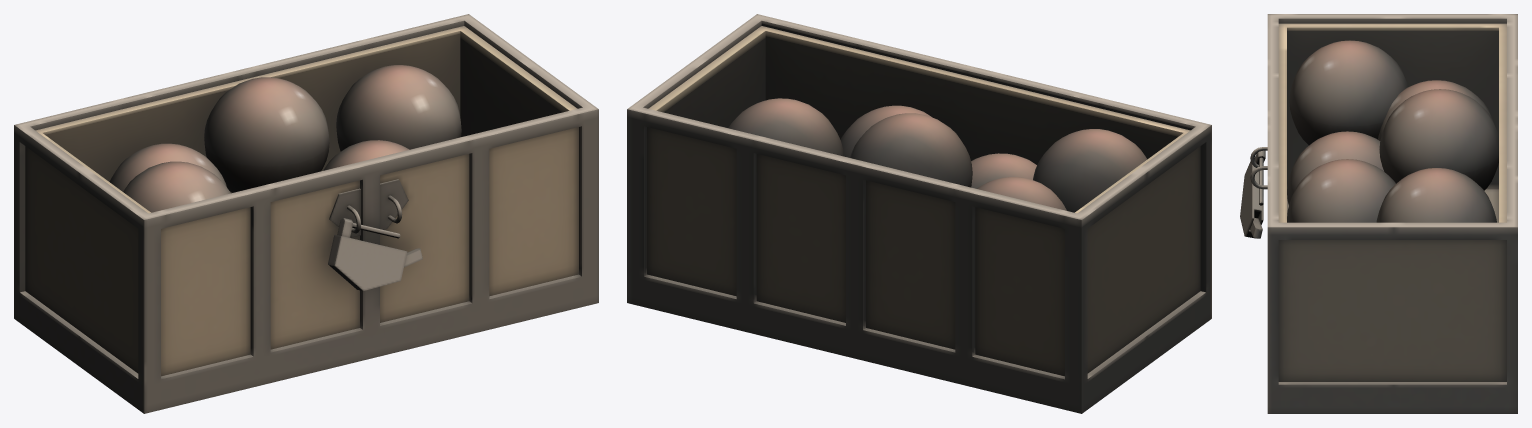
File: Storage_Cannon.fbx
The picture shows the model from 3 angles, left to right: view 1: azimuth 30°, elevation 25°; view 2: azimuth 150°, elevation 25°; view 3: azimuth 270°, elevation 25°; orthographic projection. The views are drawn at different scales.
Visible parts, largest first — view 1: chestbox_cen2_hako_hakoShape; view 2: chestbox_cen2_hako_hakoShape; view 3: chestbox_cen2_hako_hakoShape.
Part boxes in pixels (x1,y1,x2,y2): chestbox_cen2_hako_hakoShape: [14, 14, 598, 413]; chestbox_cen2_hako_hakoShape: [627, 14, 1211, 413]; chestbox_cen2_hako_hakoShape: [1240, 14, 1517, 413].
Bounding box in the file's own units: 3.08 × 1.38 × 1.69.
Materials: 1 (1 with a texture image).
